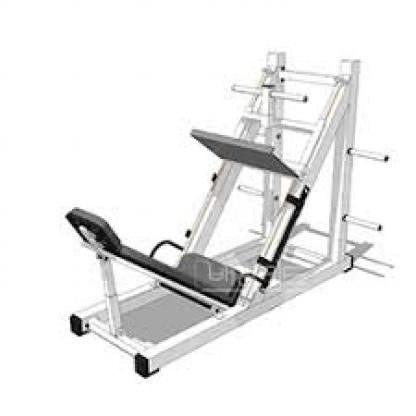leg press: (50, 35, 412, 380)
